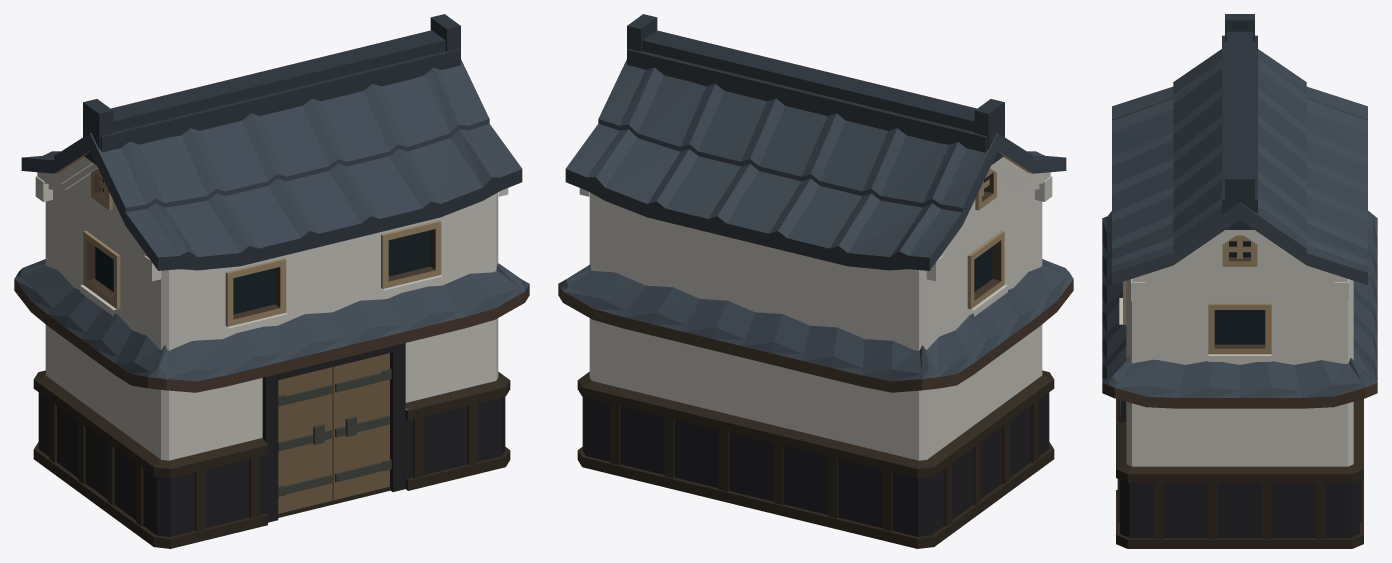
The model's file is storehouse.glb.
3 views of the same model, side by side, from view 1: azimuth 30°, elevation 25°; view 2: azimuth 150°, elevation 25°; view 3: azimuth 270°, elevation 25° (orthographic). The views are drawn at different scales.
Visible parts, largest first — view 1: kura-shell; view 2: kura-shell; view 3: kura-shell.
Part boxes in pixels (<box>): kura-shell: <box>14,14,529,548</box>; kura-shell: <box>558,14,1073,548</box>; kura-shell: <box>1102,14,1377,548</box>.
Bounding box in the file's own units: 6 × 5.94 × 4.
